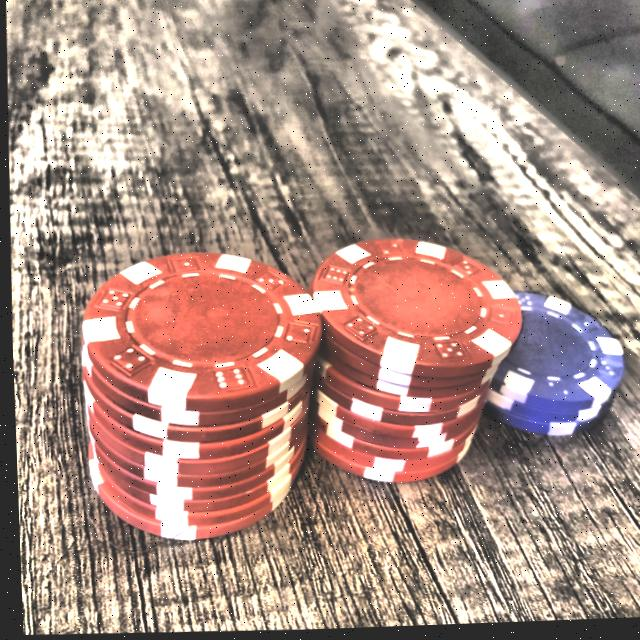Chip: (68, 246, 326, 548), (298, 234, 526, 490), (468, 290, 626, 443)
